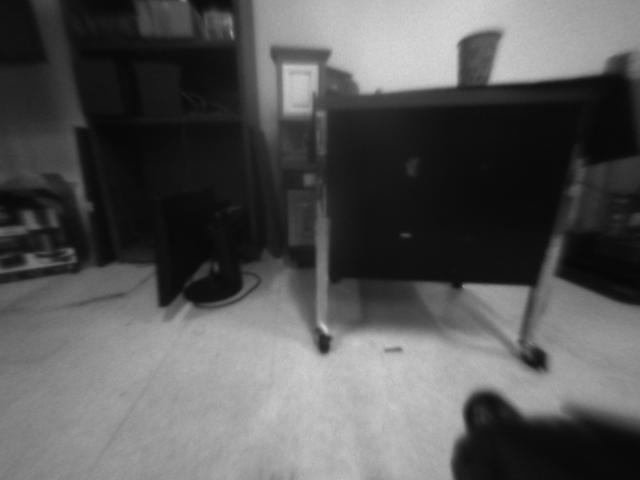coffee_cup: (457, 31, 496, 83)
